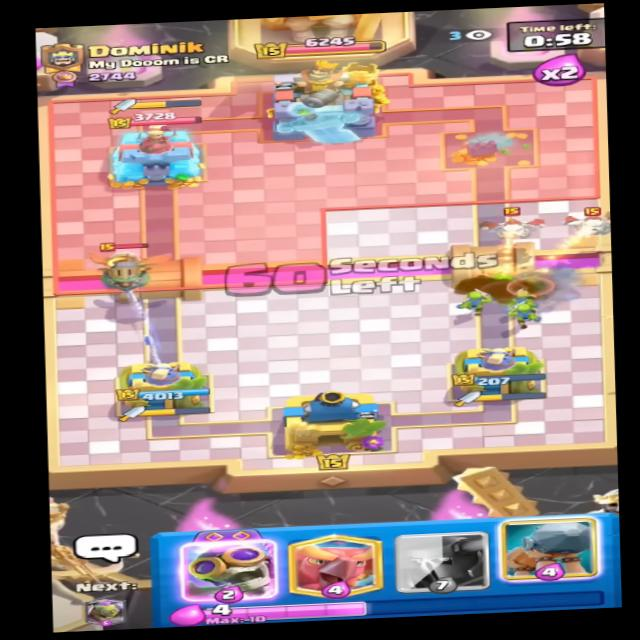inferno-dragon: (80, 238, 169, 293)
skeleton-dragon: (473, 202, 540, 246), (563, 196, 629, 239)
